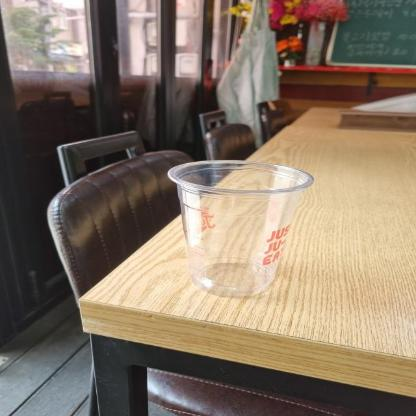Plastic Cup: (167, 159, 315, 297)
